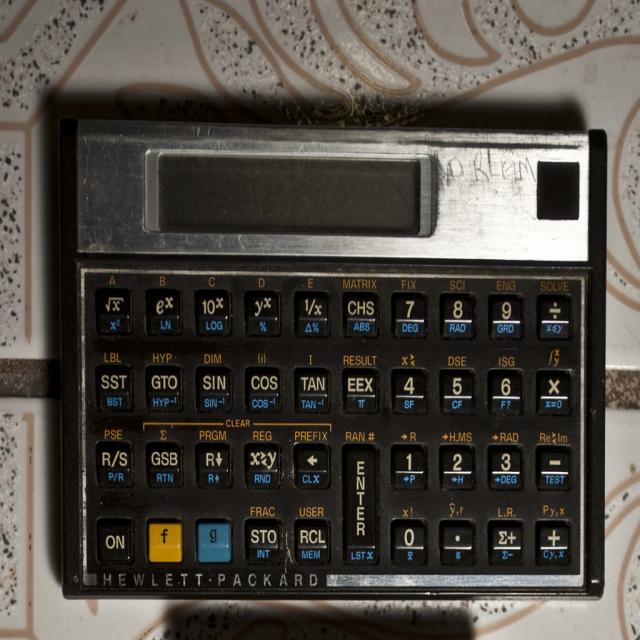Calculator: (59, 116, 606, 598)
